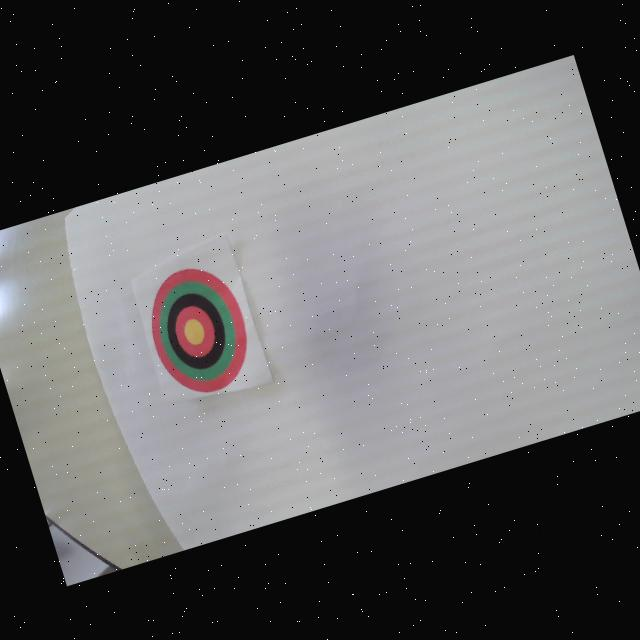COGNITIVE: (136, 256, 262, 404)
